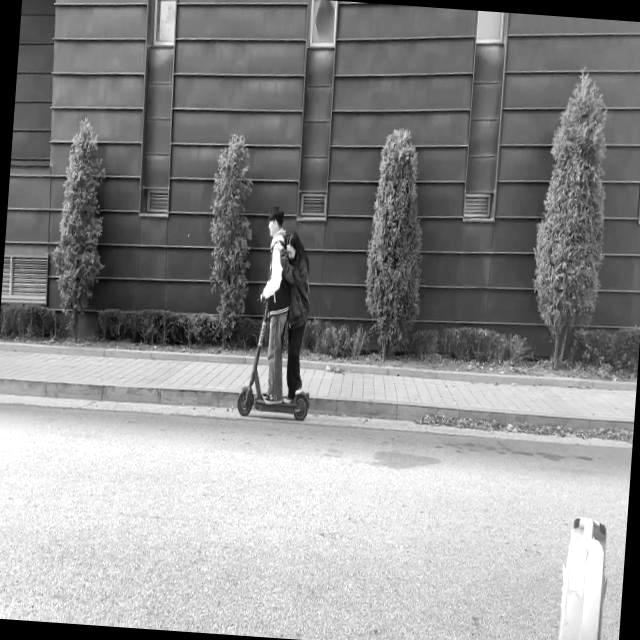bare_head: (280, 228, 307, 259), (263, 204, 285, 238)
human: (255, 204, 286, 405), (278, 226, 309, 402)
kickboard: (232, 384, 312, 427)
